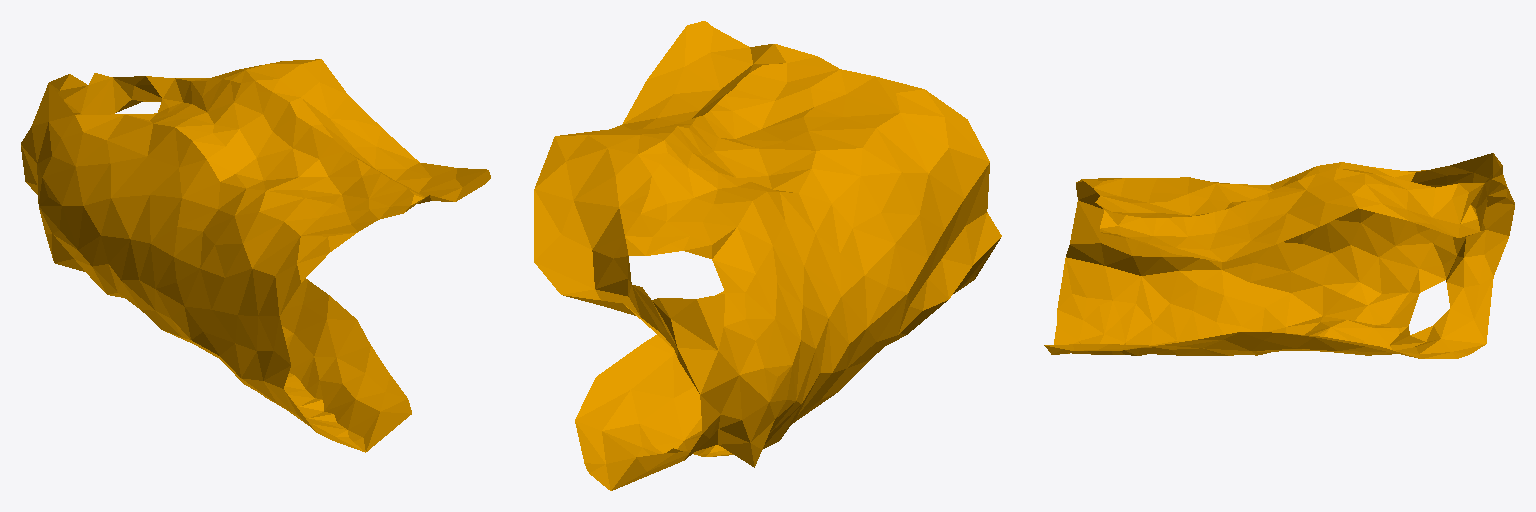
URDF robot description (init):
<?xml version='1.0' encoding='utf-8'?>
<robot name="init">
<link name="link_0"><inertial><mass value="1.0" /><origin rpy="0 0 0" xyz="0.000000 0.000000 0.000000" /><inertia ixx="1.0" ixy="0.0" ixz="0.0" iyy="1.0" iyz="0.0" izz="1.0" /></inertial><visual><origin rpy="0 0 0" xyz="0.000000 0.000000 0.000000" /><geometry><mesh filename="./clothHuman/cloth/2755.obj" /></geometry></visual><collision><origin rpy="0 0 0" xyz="0.000000 0.000000 0.000000" /><geometry><mesh filename="./clothHuman/cloth/2755.obj" /></geometry></collision></link></robot>

--- Render facts (derived) ---
The picture shows the robot from 3 angles, left to right: view 1: azimuth 30°, elevation 25°; view 2: azimuth 150°, elevation 25°; view 3: azimuth 270°, elevation 25°; orthographic projection.
Robot: init — 1 links, 0 joints (none); root link link_0; default pose: every joint at zero.
Visible links, largest first — view 1: link_0; view 2: link_0; view 3: link_0.
Link boxes in pixels (x1,y1,x2,y2): link_0: (21, 59, 490, 452); link_0: (534, 21, 1001, 490); link_0: (1044, 153, 1514, 358).
Bounding box of the posed robot: 2.18 × 3.91 × 1.92 m (x, y, z).
Meshes: 1 distinct files referenced, 1 mesh visuals loaded (1 OBJ).